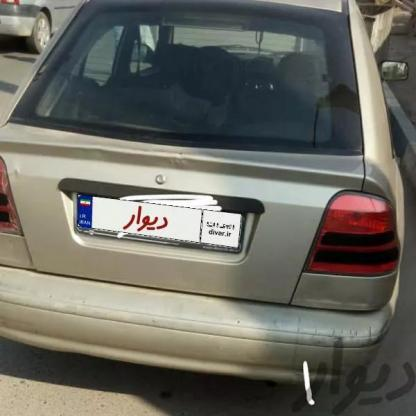Car: (0, 0, 405, 376), (0, 0, 92, 60)
